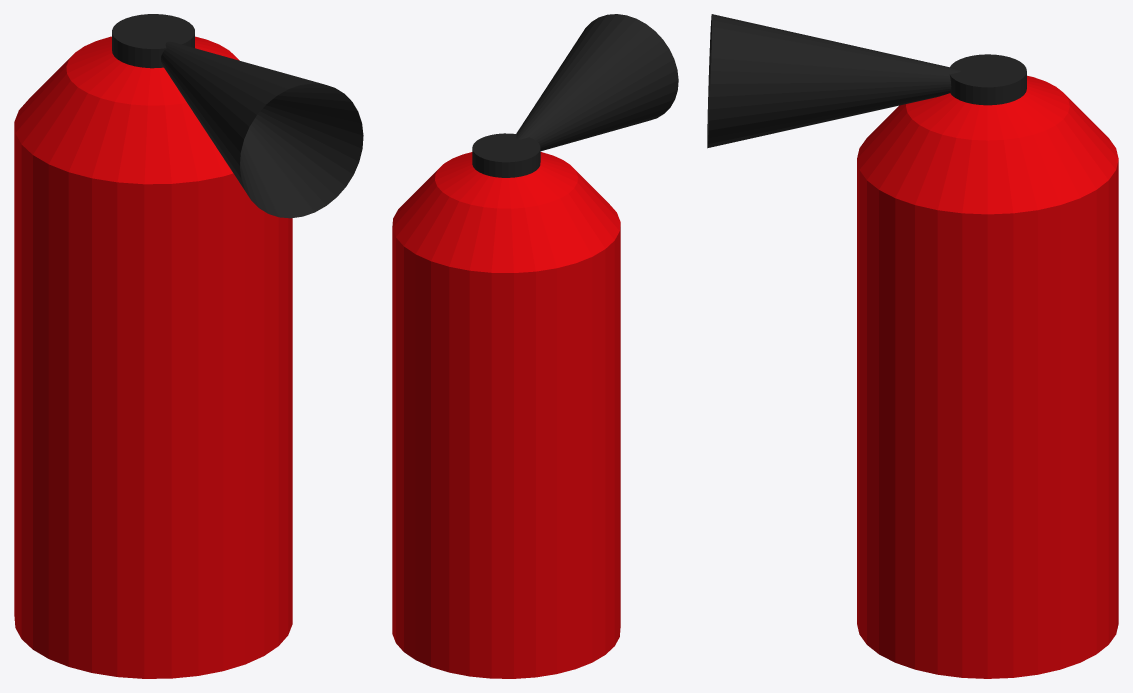
Rendered from Extinguisher.fbx.
3 views of the same model, side by side, from view 1: azimuth 30°, elevation 25°; view 2: azimuth 150°, elevation 25°; view 3: azimuth 270°, elevation 25° (orthographic). The views are drawn at different scales.
Parts seen in each view (by area): view 1: ExtinguisherBody, ExtinguisherOutlet; view 2: ExtinguisherBody, ExtinguisherOutlet; view 3: ExtinguisherBody, ExtinguisherOutlet.
Boxes of the visible parts, x1,y1,x2,y2 form: ExtinguisherBody: [14, 14, 292, 678]; ExtinguisherOutlet: [161, 41, 363, 218]; ExtinguisherBody: [392, 133, 620, 678]; ExtinguisherOutlet: [516, 14, 678, 151]; ExtinguisherBody: [857, 54, 1118, 678]; ExtinguisherOutlet: [707, 14, 960, 148].
Size of the model in its own units: 200 by 509 by 314.
